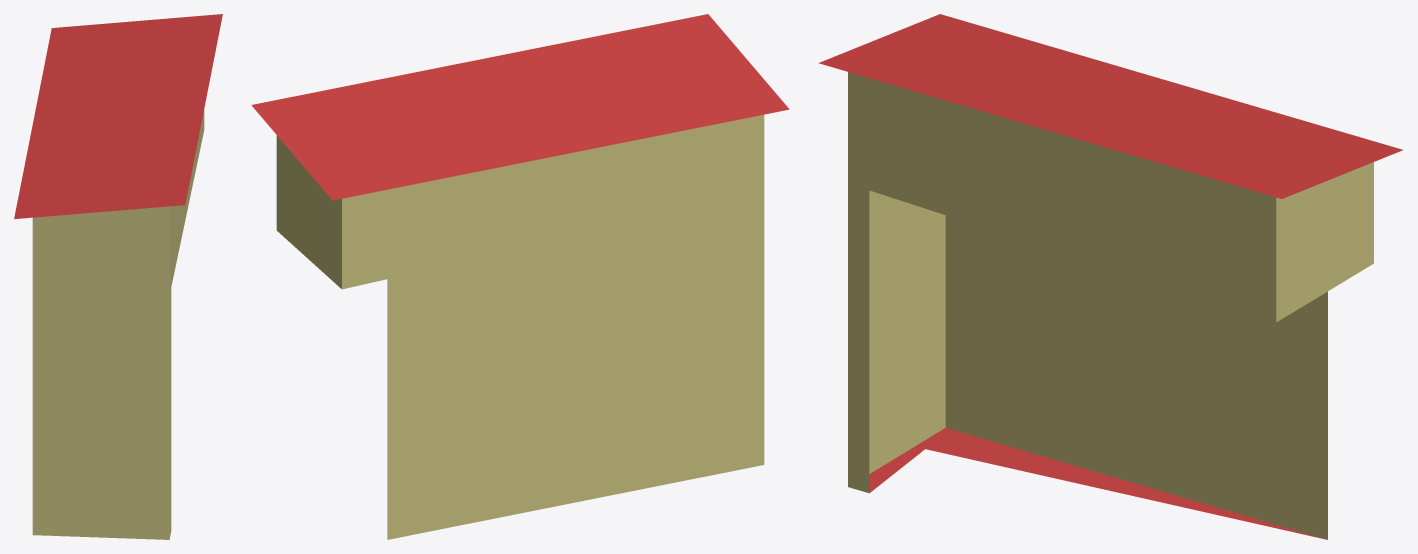
3 views of the same model, side by side, from view 1: azimuth 30°, elevation 25°; view 2: azimuth 150°, elevation 25°; view 3: azimuth 270°, elevation 25° (orthographic). The views are drawn at different scales.
Parts seen in each view (by area): view 1: group_5, group_3, group_4; view 2: group_5, group_3, group_4; view 3: group_5, group_3, group_6, group_4.
Boxes of the visible parts, bbox=[...] form: group_5: bbox=[32, 109, 204, 539]; group_3: bbox=[16, 14, 222, 218]; group_4: bbox=[14, 14, 221, 218]; group_5: bbox=[276, 114, 764, 539]; group_3: bbox=[251, 14, 788, 187]; group_4: bbox=[252, 61, 789, 200]; group_5: bbox=[848, 72, 1373, 539]; group_3: bbox=[818, 14, 1373, 198]; group_6: bbox=[869, 428, 1324, 539]; group_4: bbox=[892, 14, 1402, 198].
Bounding box in the file's own units: 11.6 × 13.66 × 10.97.
